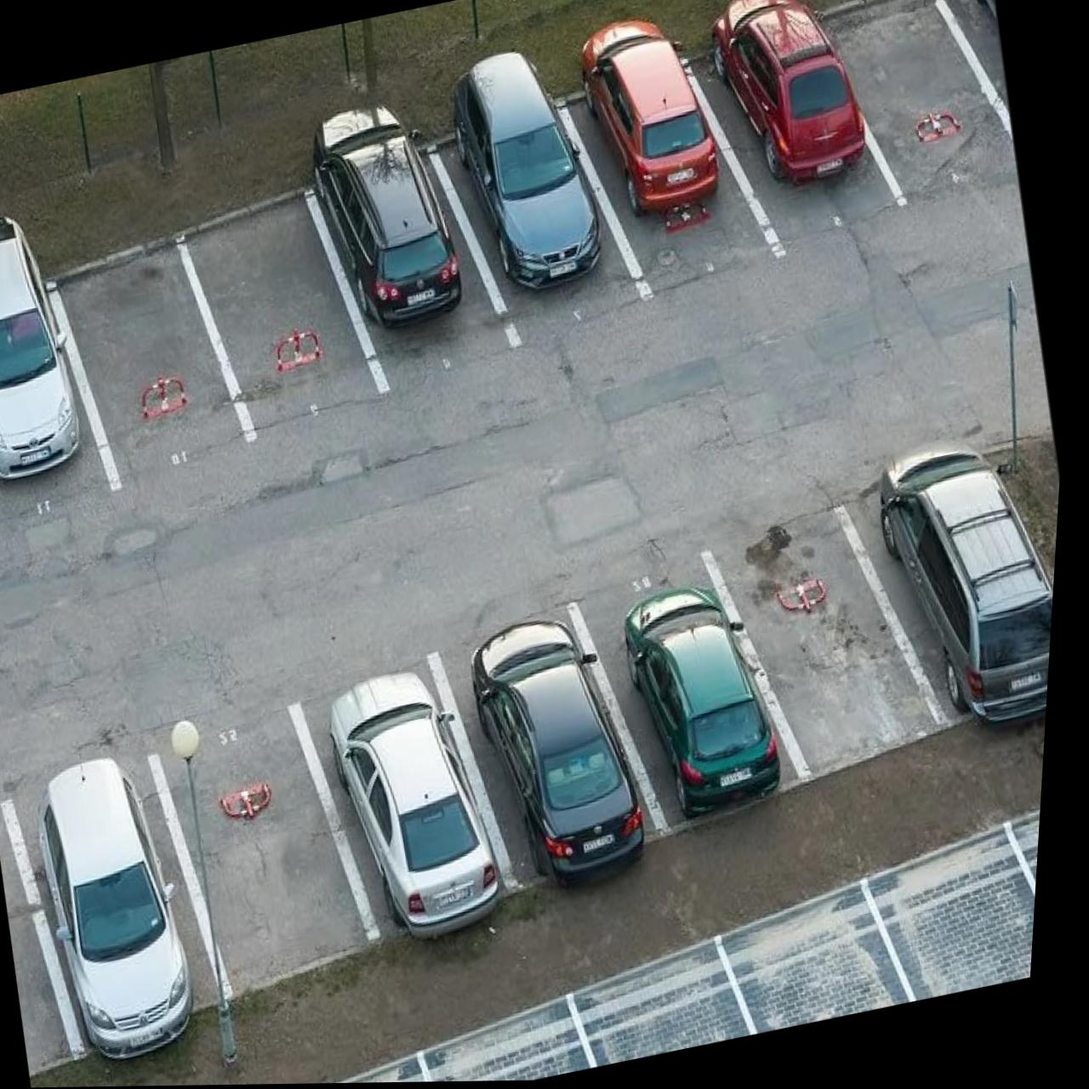cars: (8, 718, 236, 1054), (443, 587, 658, 897), (145, 691, 374, 981), (723, 502, 945, 796), (313, 625, 529, 921), (584, 529, 800, 822), (861, 419, 1063, 731), (445, 75, 633, 336), (316, 111, 493, 384), (67, 216, 243, 489), (193, 178, 371, 434), (584, 34, 760, 285), (707, 0, 880, 240), (832, 0, 1014, 214), (0, 248, 103, 512)
